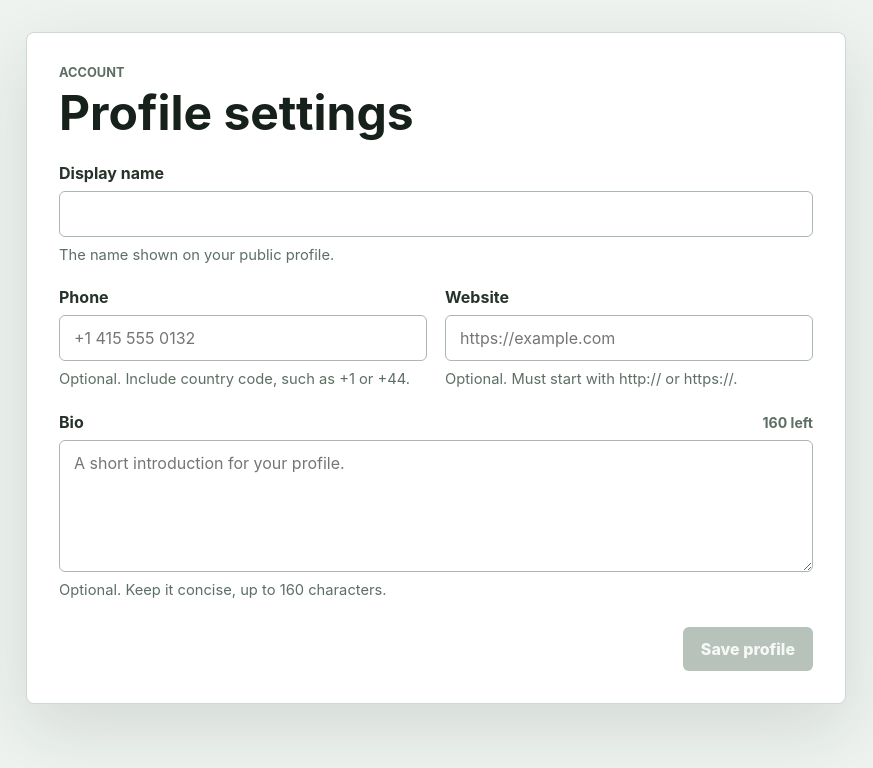
Test: Profile settings form › keeps submit disabled until the form is valid
Expected: the button "Save profile" is disabled, top-left (683, 627), bottom-right (813, 671)
Type "Ada Lovelace" into the field labelled "Display name" at (436, 214), box top-left (59, 191), bottom-right (813, 237)
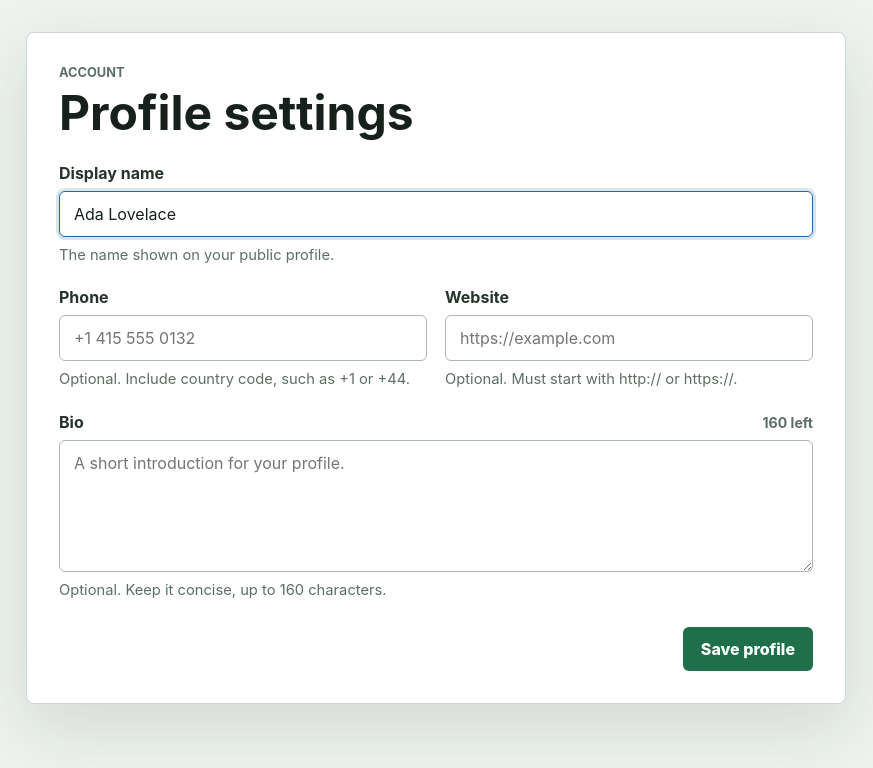
Expected: the button "Save profile" is enabled, top-left (683, 627), bottom-right (813, 671)
Type "example.com" into the field labelled "Website" at (629, 338), box top-left (445, 315), bottom-right (813, 361)
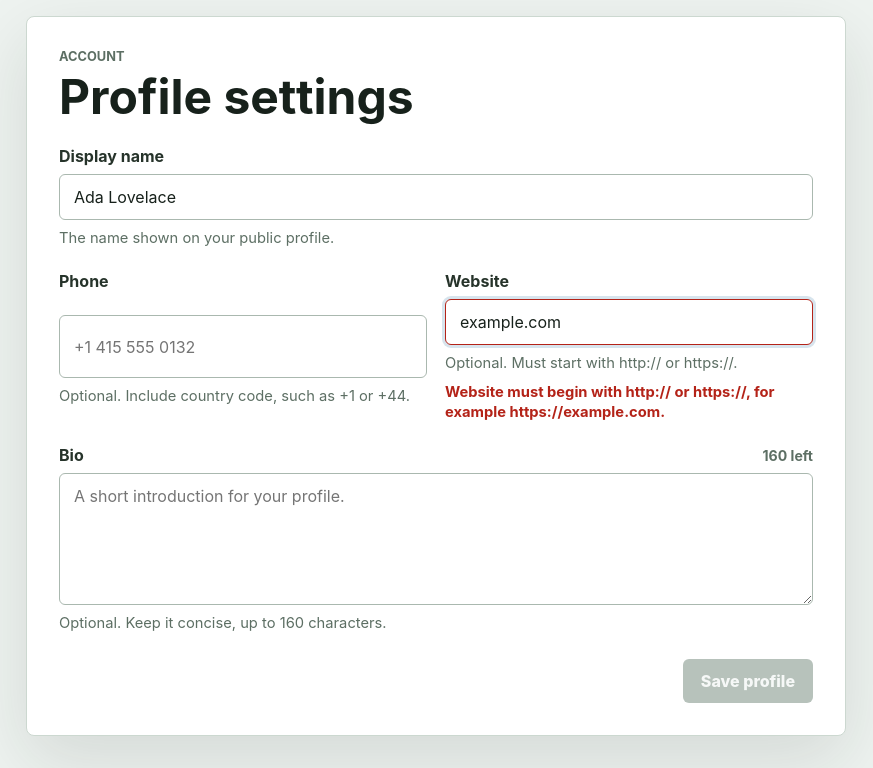
Expected: the button "Save profile" is disabled, top-left (683, 659), bottom-right (813, 703)
Expected: the text "Website must begin with http:// or https://, for example https://example.com." is shown, top-left (445, 382), bottom-right (813, 423)
